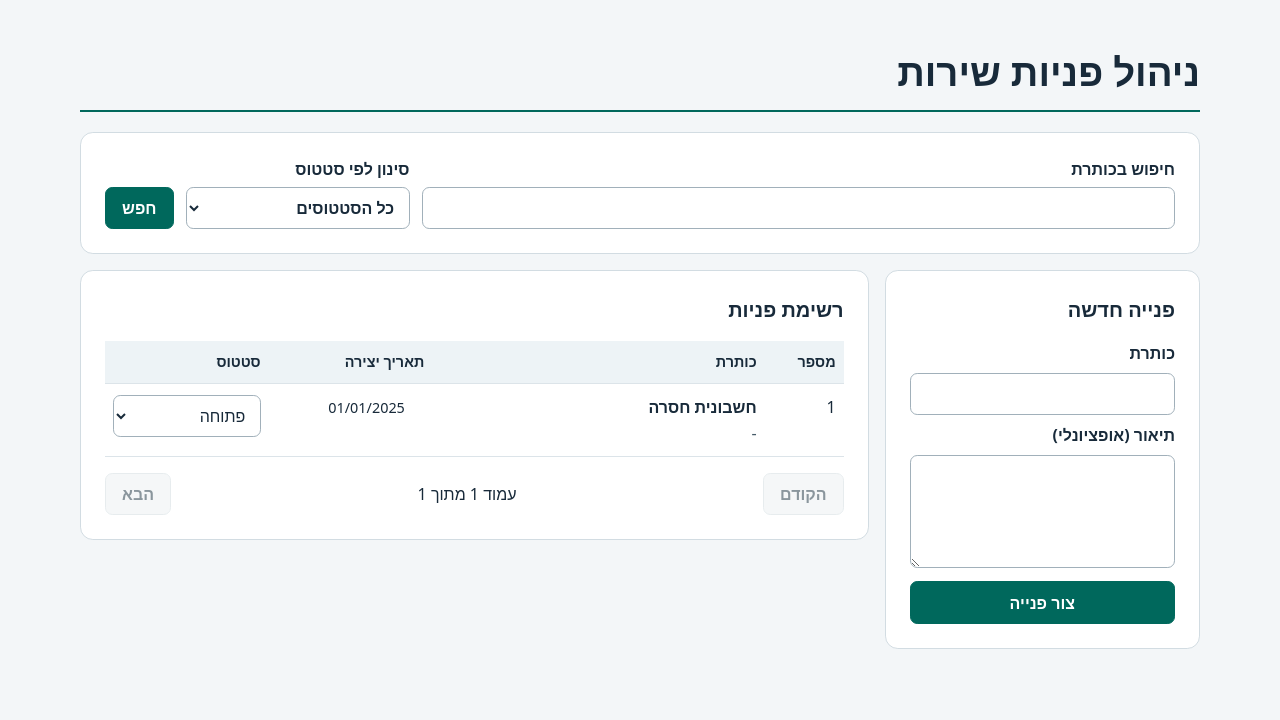
Test: refreshes applied filters after a status change and returns from an invalid last page
Expected: the text "חשבונית חסרה" is shown, [648,396,757,418]
Select "פתוחה" in the dropdown labelled "סינון לפי סטטוס" at [298, 208], box [186,187,410,229]
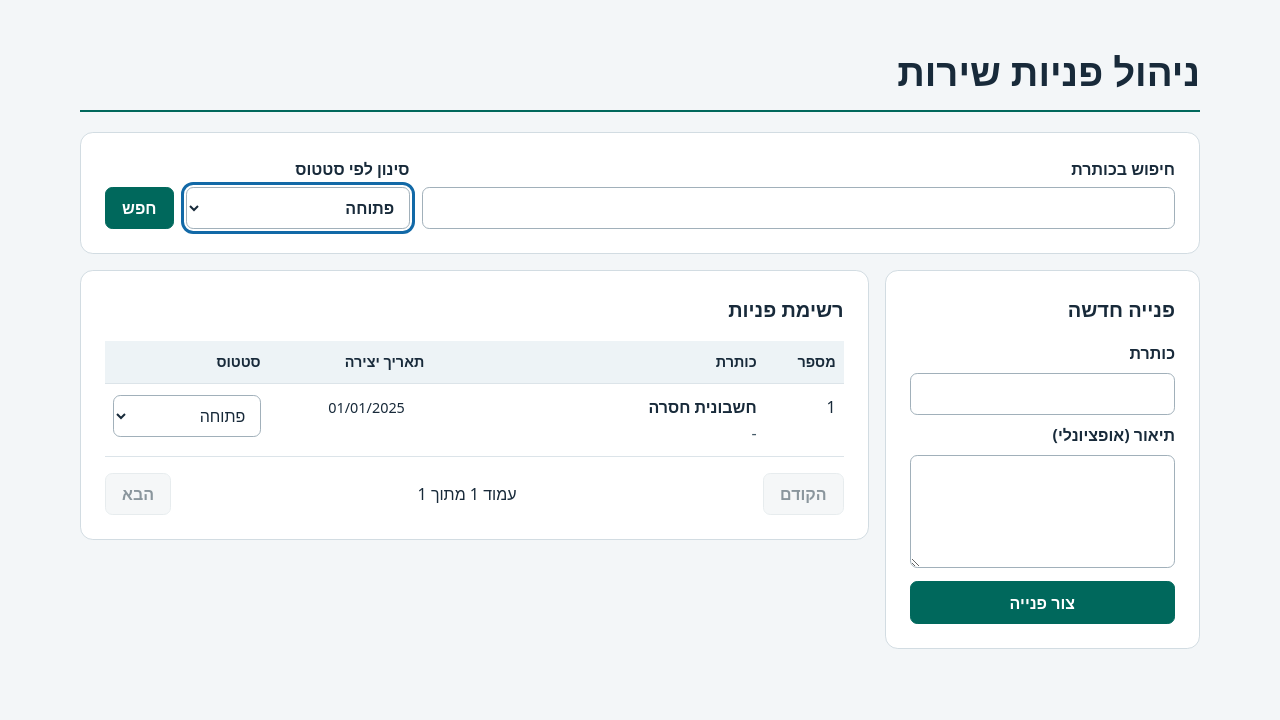
Click the button "חפש" at [139, 208], box [105,187,174,229]
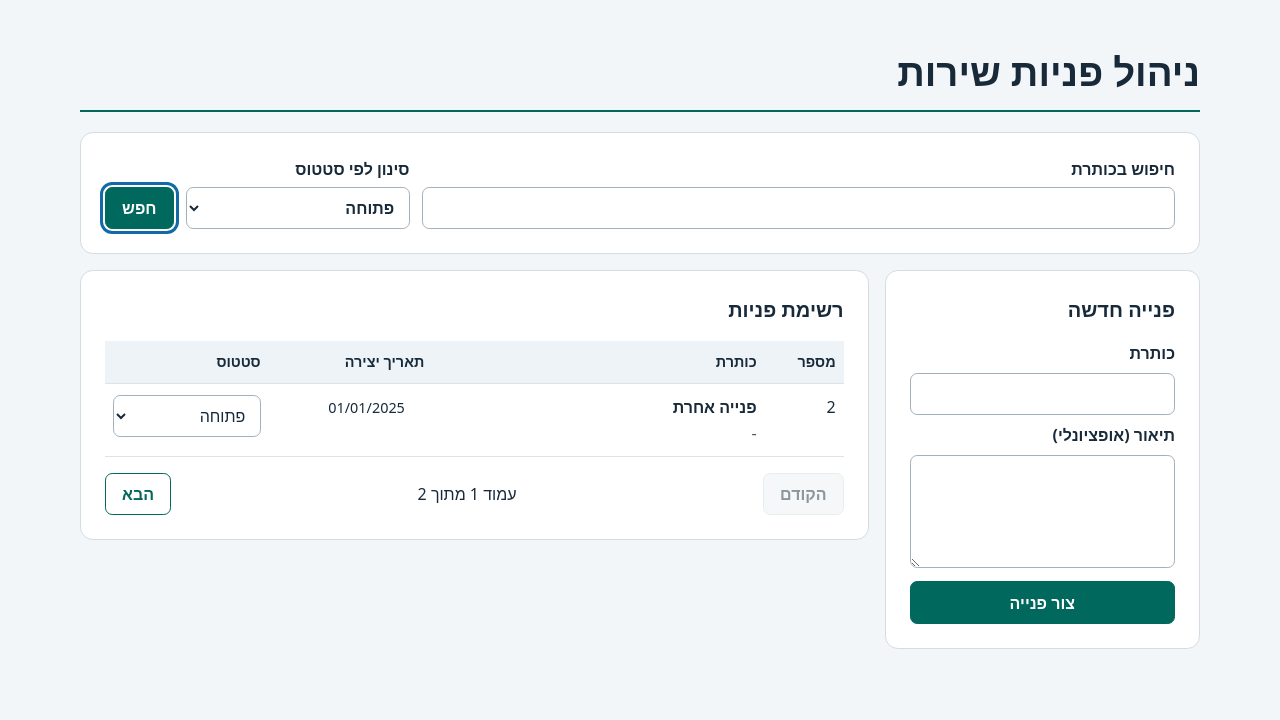
Expected: the text "עמוד 1 מתוך 2" is shown, [418,482,516,506]
Click the button "הבא" at [138, 494], box [105,473,171,515]
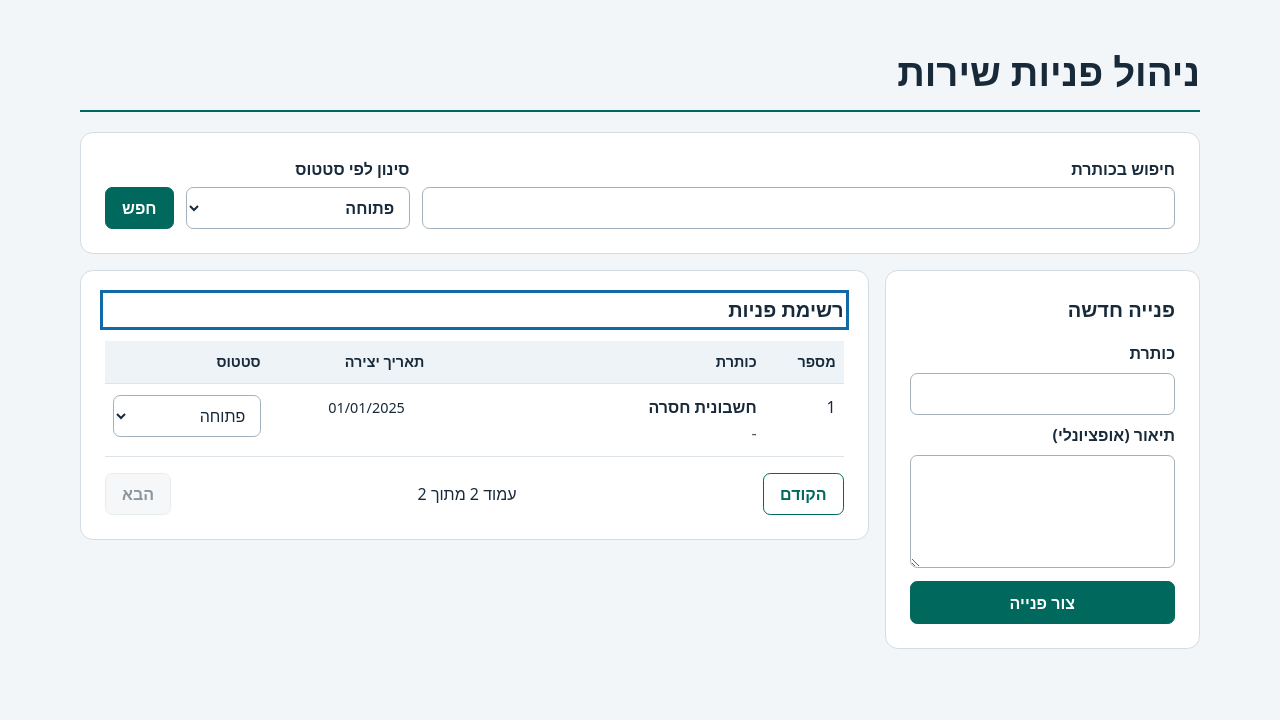
Expected: the text "עמוד 2 מתוך 2" is shown, [418,482,516,506]
Select "סגורה" in the dropdown named "סטטוס עבור" at [187, 416], box [113,395,261,437]
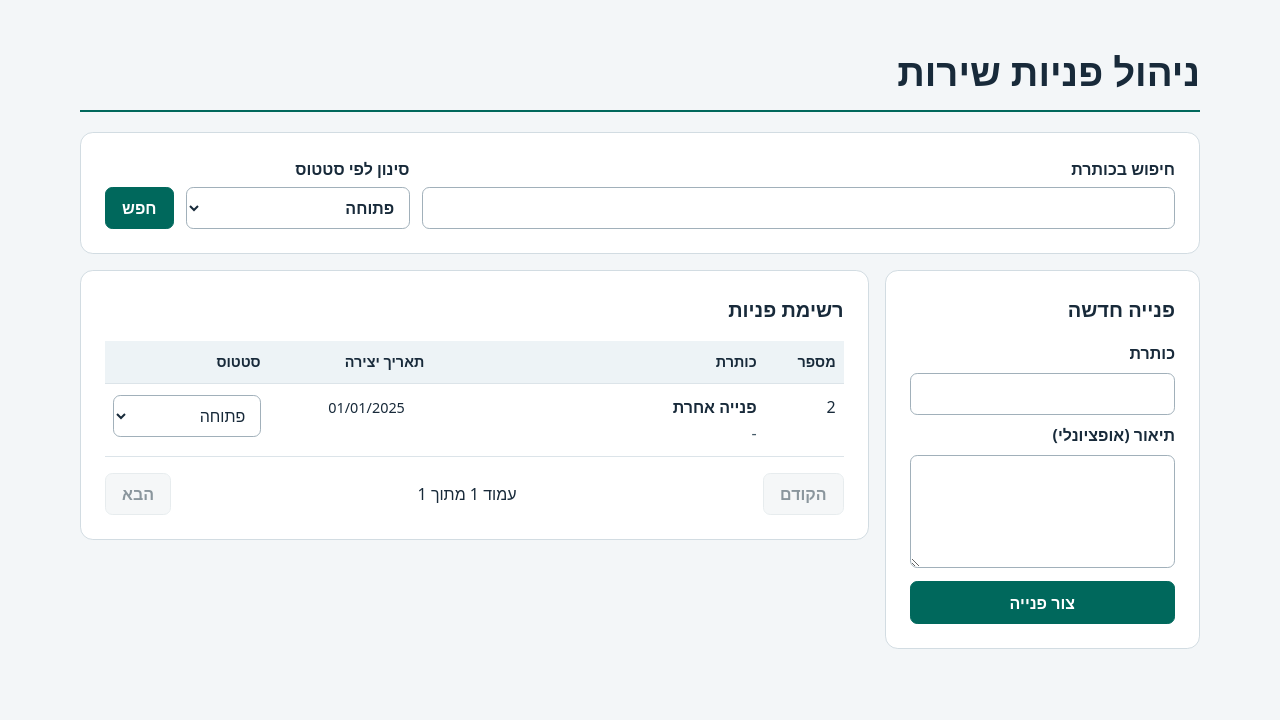
Expected: the button "הבא" is disabled, [105,473,171,515]
Expected: the text "עמוד 1 מתוך 1" is shown, [418,482,516,506]
Expected: the text "חשבונית חסרה" is gone
